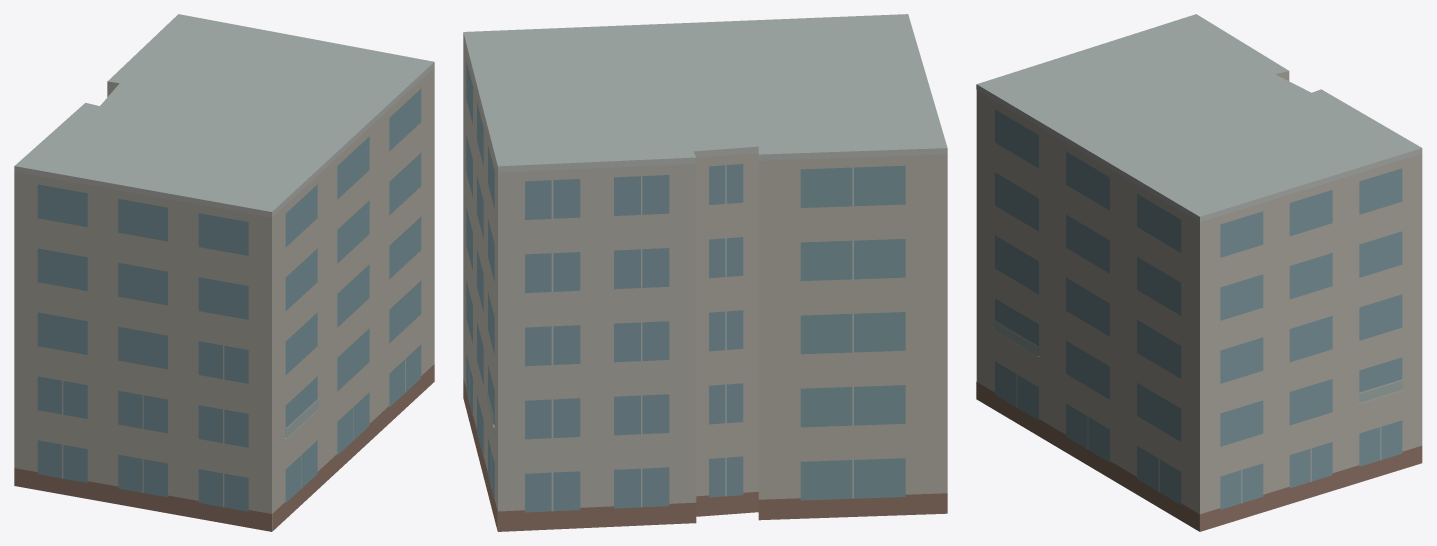
File: survey-upis-32892105.glb
3 renders of one model, left to right at view 1: azimuth 30°, elevation 25°; view 2: azimuth 150°, elevation 25°; view 3: azimuth 270°, elevation 25°, orthographic. The views are drawn at different scales.
Visible parts, largest first — view 1: survey-upis-32892105.tmp; view 2: survey-upis-32892105.tmp; view 3: survey-upis-32892105.tmp.
Part boxes in pixels (left/top/right/bottom): survey-upis-32892105.tmp: left=14, top=14, right=434, bottom=531; survey-upis-32892105.tmp: left=463, top=14, right=947, bottom=531; survey-upis-32892105.tmp: left=976, top=14, right=1422, bottom=531.
Size of the model in its own units: 19.48 by 14.1 by 18.09.
